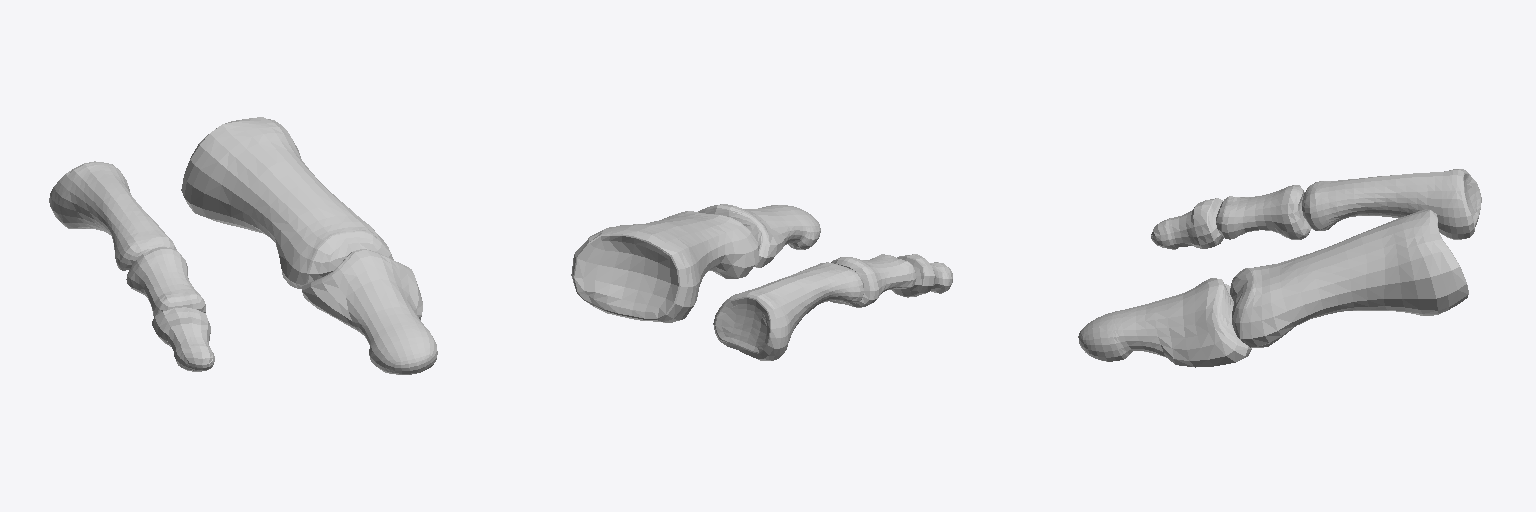
Rendered from R_FootThumb.obj.
3 views of the same model, side by side, from view 1: azimuth 30°, elevation 25°; view 2: azimuth 150°, elevation 25°; view 3: azimuth 270°, elevation 25° (orthographic).
Size of the model in its own units: 4.65 by 2.23 by 6.14.